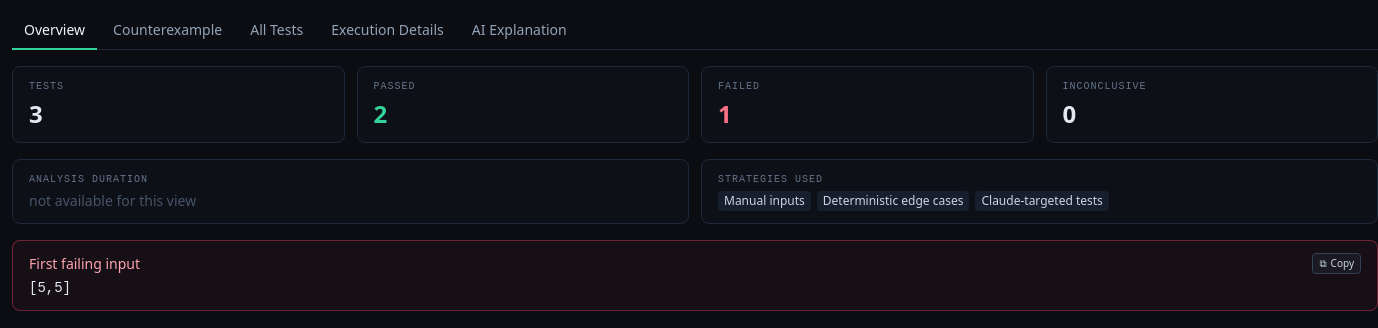
Test case: ResultsView › shows expected and actual behavior on the counterexample tab
The width and height of the screenshot is (1378, 328).
Click the tab "Counterexample" at (168, 31), box [101,12,234,50]
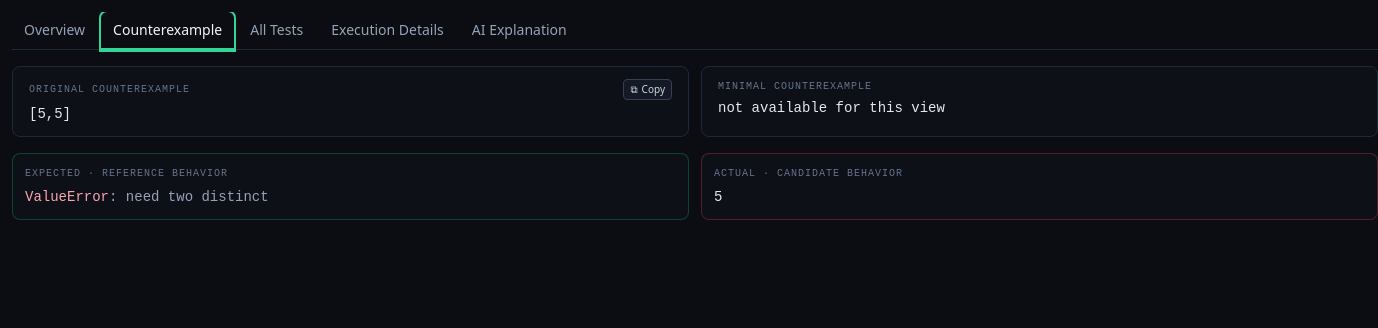
Expected: the text "Original counterexample" is shown, [29,82,190,97]
Expected: the text "actual · candidate behavior" is shown, [714,168,903,179]
Expected: the text "expected · reference behavior" is shown, [25,168,228,179]
